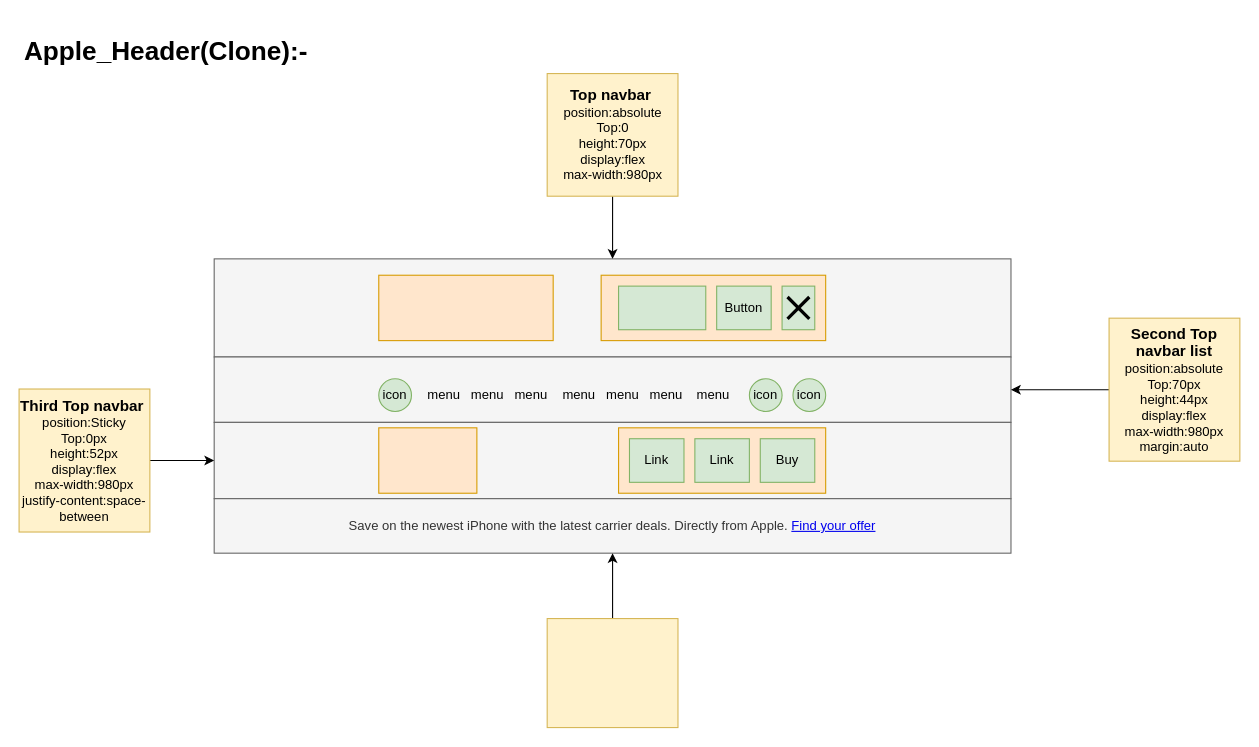
The diagram is 1259 pixels wide and 747 high, and some of its shapes have lost their labels. Here are the shapes that lost their labels. From the top down, the centre of each, then its label:
At (465,307): "Choose another country or region to see content specific to your location.".
At (661,307): "Dropdown".
At (427,460): "IPhone 12 Pro".
At (612,672): "offers section padding:0.9em max-width:980px text-aligh:center".
